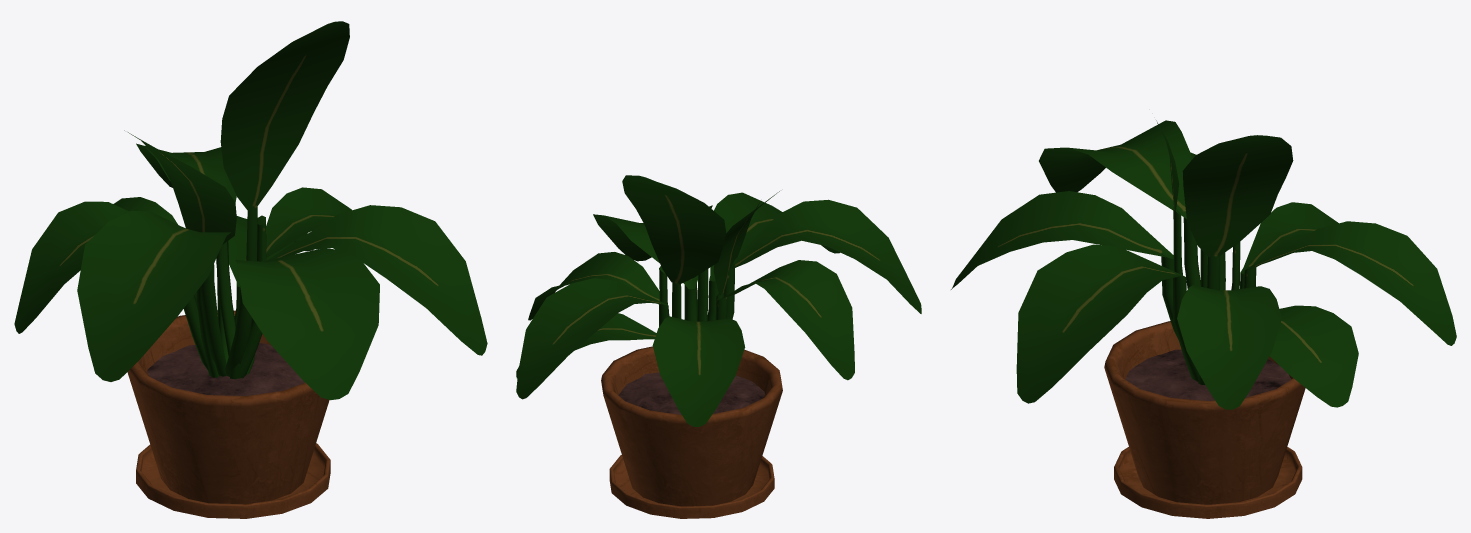
File: plant.obj
3 renders of one model, left to right at view 1: azimuth 30°, elevation 25°; view 2: azimuth 150°, elevation 25°; view 3: azimuth 270°, elevation 25°, orthographic. The views are drawn at different scales.
Parts seen in each view (by area): view 1: Sketchfab_Model; view 2: Sketchfab_Model; view 3: Sketchfab_Model.
Part boxes in pixels (bbox=[...]): Sketchfab_Model: bbox=[14, 21, 487, 518]; Sketchfab_Model: bbox=[516, 175, 921, 518]; Sketchfab_Model: bbox=[951, 120, 1456, 518].
Bounding box in the file's own units: 1.11 × 1.38 × 1.33.
Materials: 1 (1 with a texture image).
